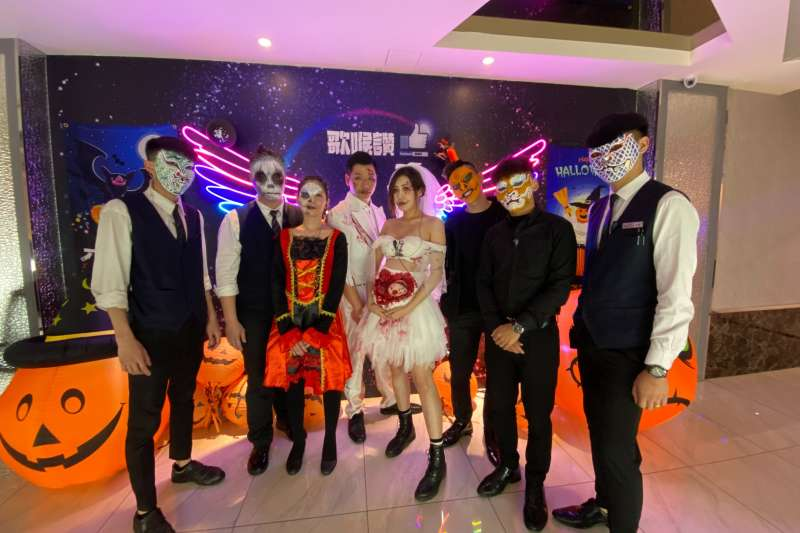people: (576, 115, 695, 533), (104, 137, 226, 533), (493, 162, 562, 525), (373, 169, 446, 497), (224, 150, 298, 473), (334, 152, 394, 436), (286, 179, 341, 477), (443, 160, 497, 446)
